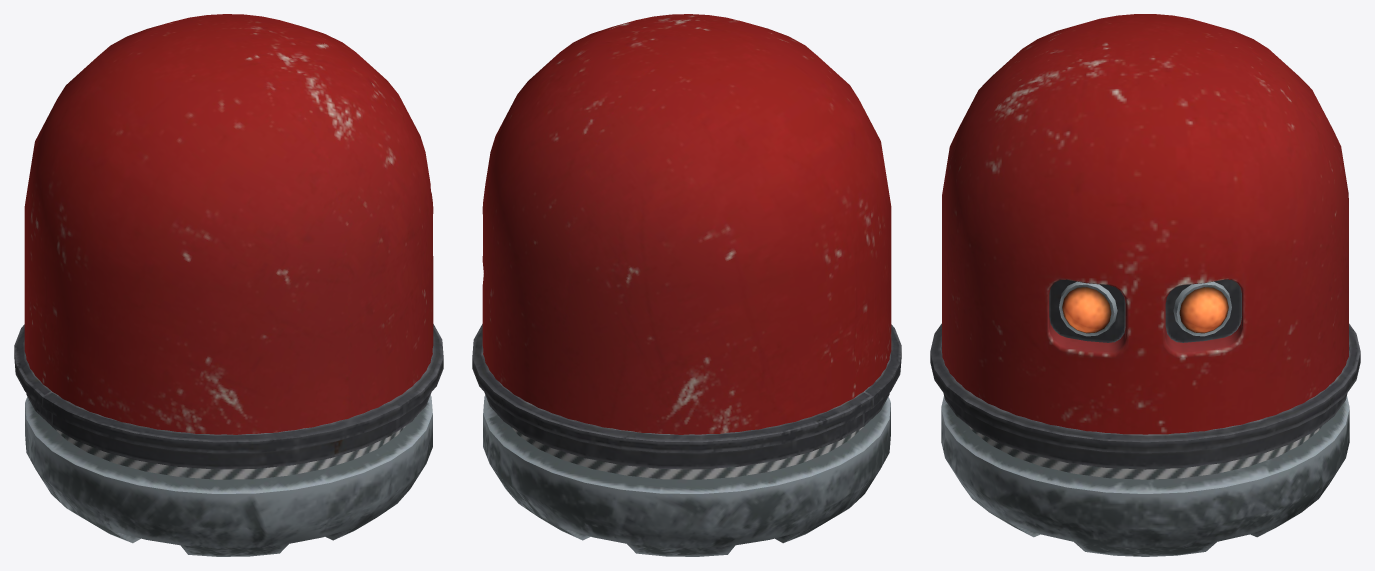
File: blinky.fbx
The picture shows the model from 3 angles, left to right: view 1: azimuth 30°, elevation 25°; view 2: azimuth 150°, elevation 25°; view 3: azimuth 270°, elevation 25°; orthographic projection.
Parts seen in each view (by area): view 1: blinky; view 2: blinky; view 3: blinky.
Part boxes in pixels (box(x1,y1,x2,y2)): blinky: box(14, 14, 443, 556); blinky: box(472, 14, 901, 556); blinky: box(930, 14, 1360, 556).
Bounding box in the file's own units: 50.06 × 57.79 × 50.06.
